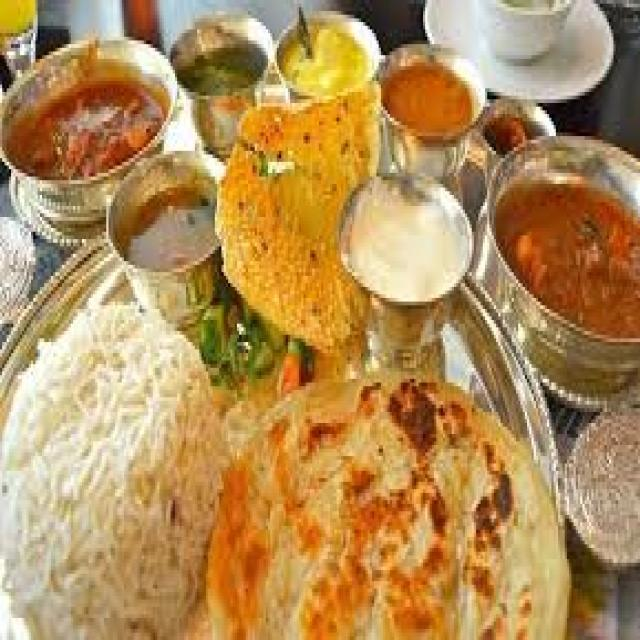dal: (340, 174, 476, 319), (278, 11, 371, 101)
papad: (215, 98, 361, 324)
rice: (10, 291, 202, 621), (1, 209, 39, 329)
roti: (250, 368, 561, 618)
sambar-rasam: (379, 38, 483, 148), (0, 0, 40, 52)
sweet: (566, 402, 638, 567)
veg-fry: (484, 141, 640, 393), (4, 20, 171, 210)
